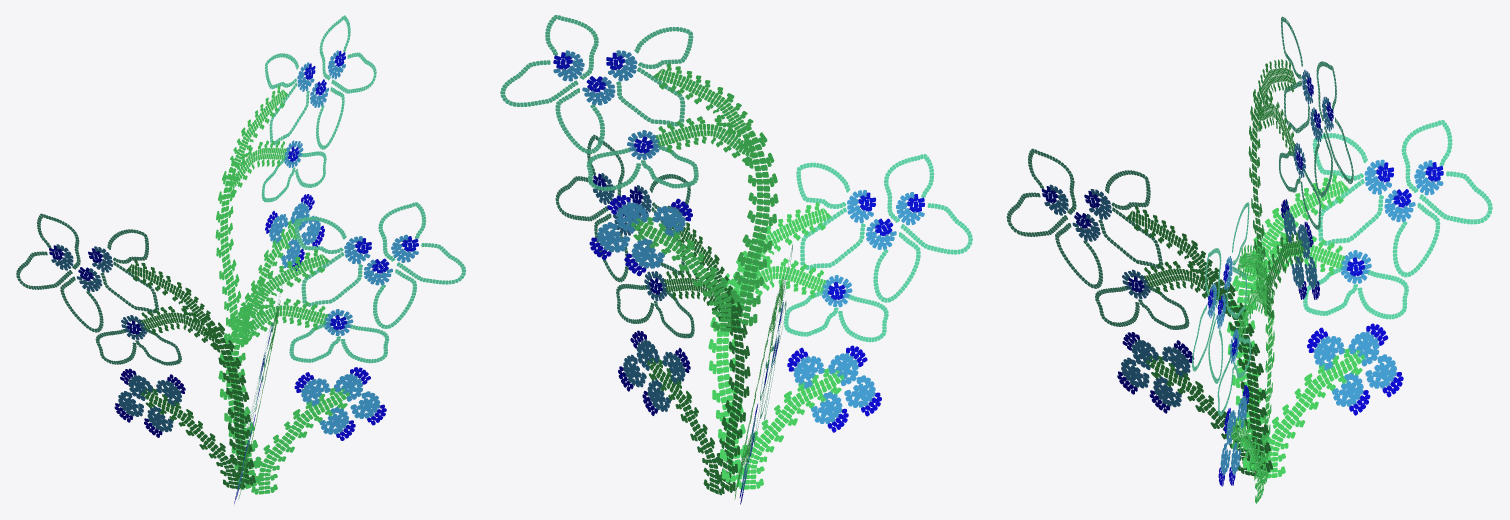
Rendered from blueberry.glb.
3 views of the same model, side by side, from view 1: azimuth 30°, elevation 25°; view 2: azimuth 150°, elevation 25°; view 3: azimuth 270°, elevation 25° (orthographic). The views are drawn at different scales.
Visible parts, largest first — view 1: blueberry; view 2: blueberry; view 3: blueberry.
Part boxes in pixels (x1,y1,x2,y2): blueberry: (16,15,465,503); blueberry: (500,15,972,504); blueberry: (1006,16,1492,503).
Size of the model in its own units: 1.81 by 2.32 by 2.05.
Materials: 1 (1 with a texture image).
